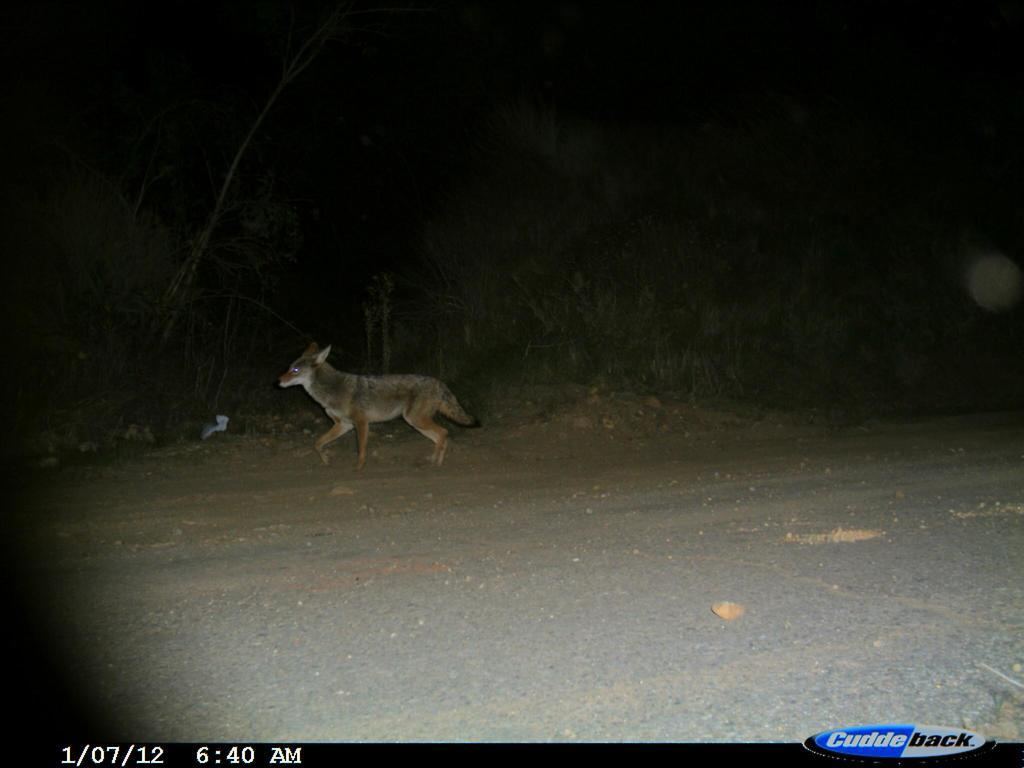coyote: (277, 336, 483, 475)
